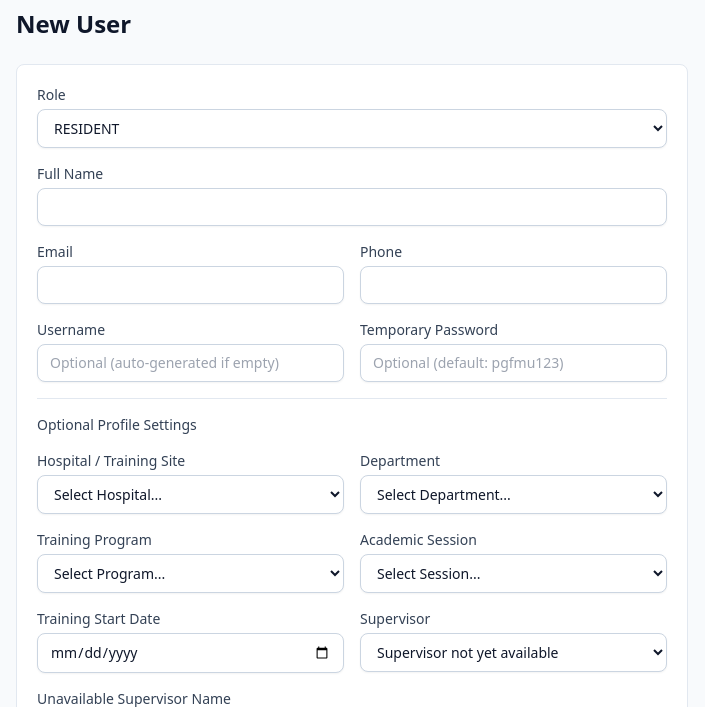
changes role to supervisor and submits its designation
The width and height of the screenshot is (705, 707).
Select "SUPERVISOR" in the dropdown labelled "Role" at coordinates (352, 128), box [37,109,667,148]
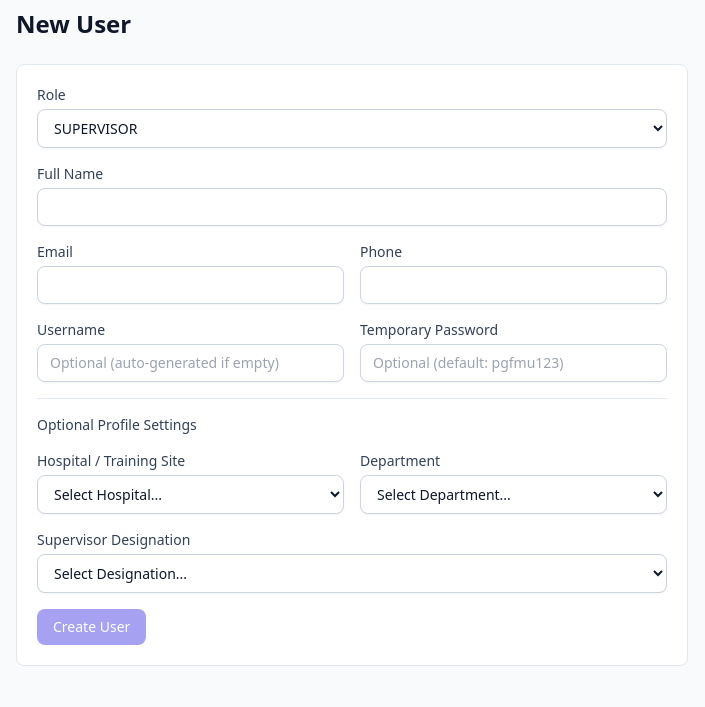
Select "Professor" in the dropdown labelled "Supervisor Designation" at coordinates (352, 574), box [37,554,667,593]
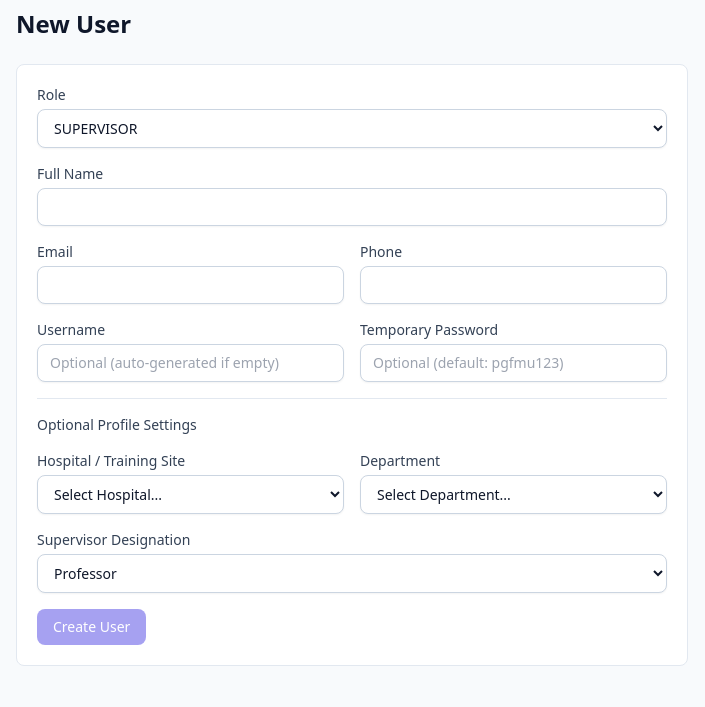
Type "Supervisor One" into the field labelled "Full Name" at coordinates (352, 207), box [37,188,667,226]
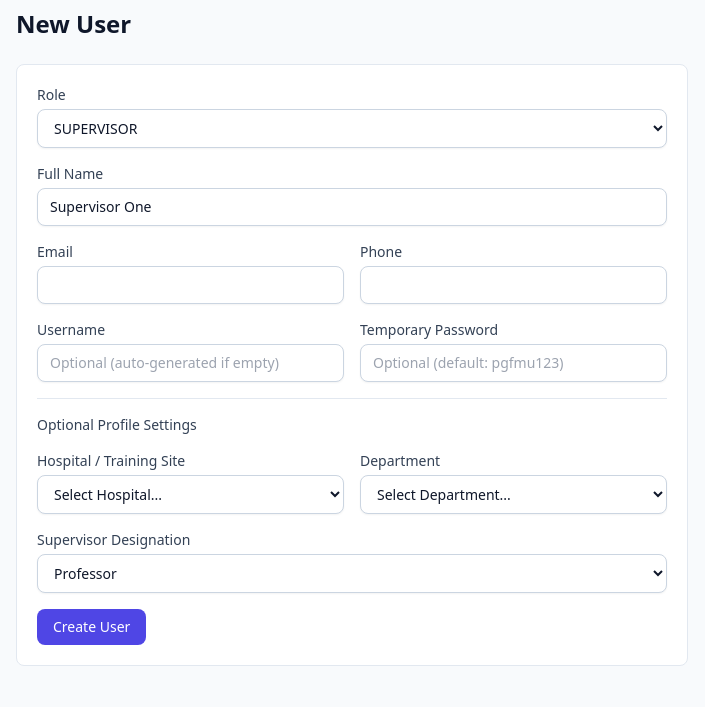
Expected: the label labelled "Training Program" is not shown
Click the button "Create User" at coordinates (92, 627), box [37,609,146,645]
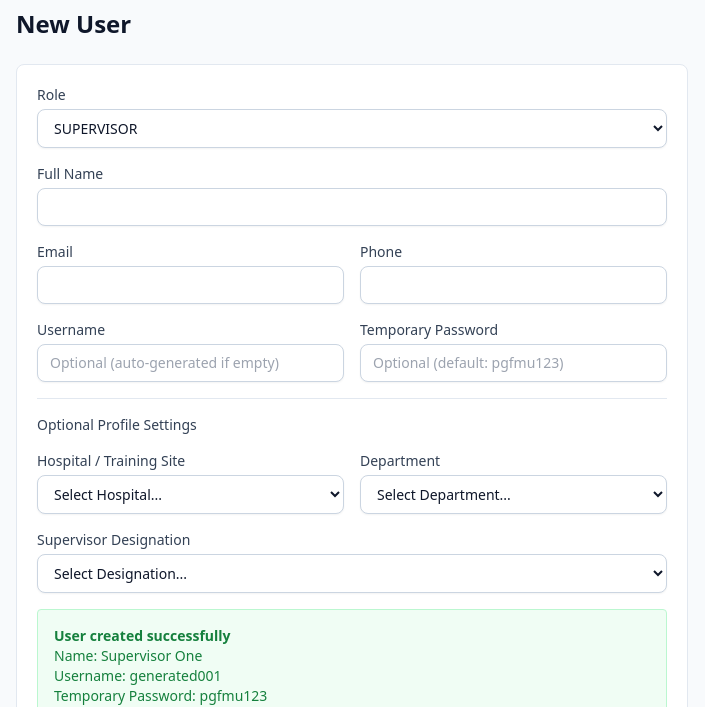
Now the text "User created successfully" is shown, box [54,626,230,645]
